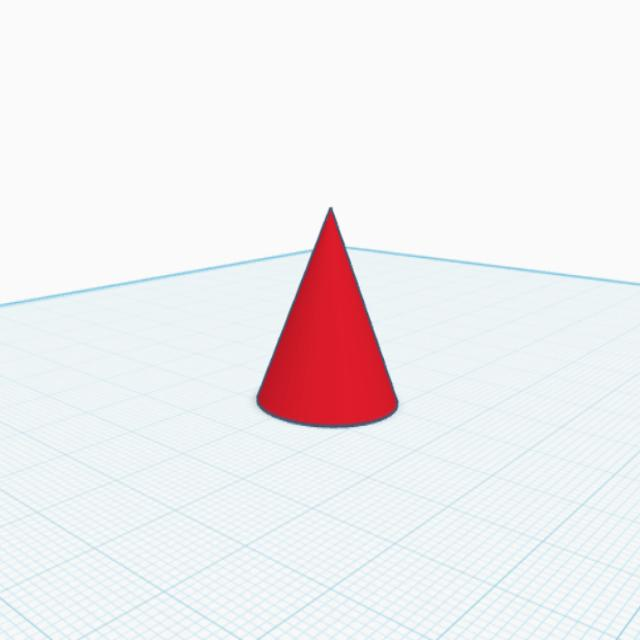cone: (250, 203, 403, 434)
